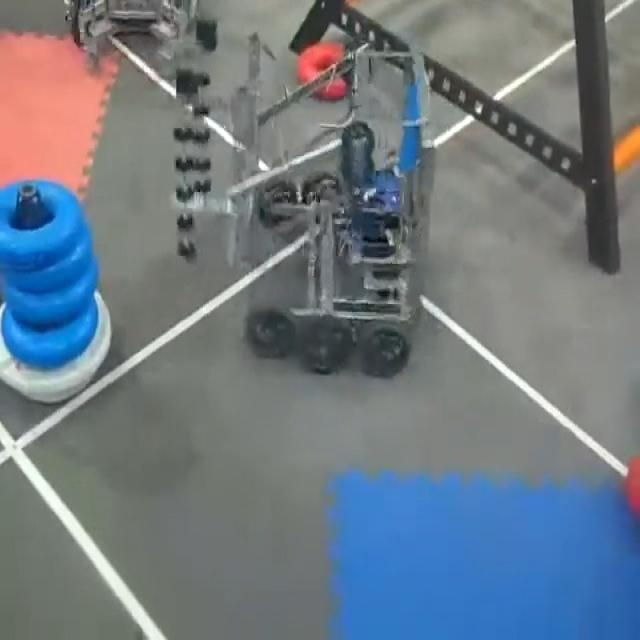Blue-Ring: (0, 180, 88, 269), (2, 296, 98, 368), (6, 260, 98, 327), (6, 232, 94, 291)
Red-Ring: (299, 41, 364, 105), (627, 452, 640, 520)
